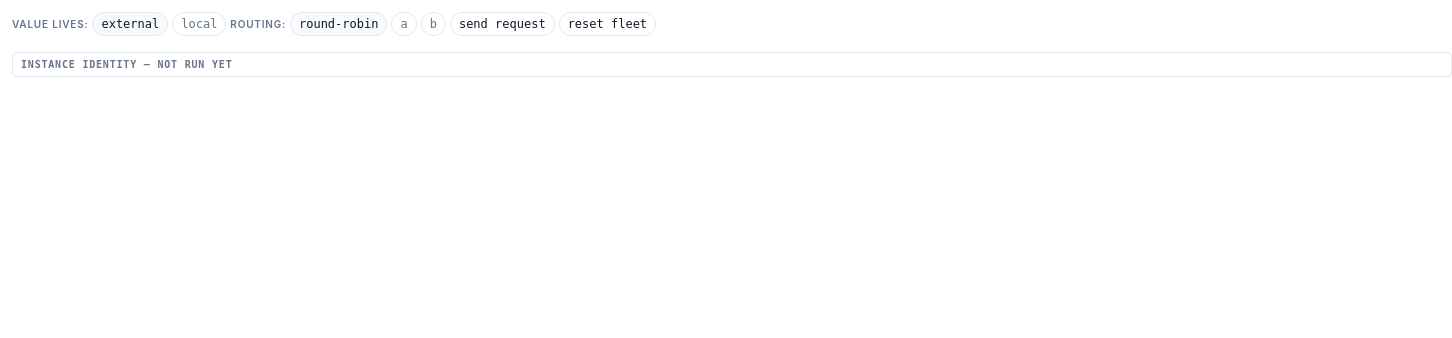
it: StatelessDemo › rides the selected store and routing on the request URL, local mode and all
Click the button "local" at x=199, y=24, box [172,12,226,36]
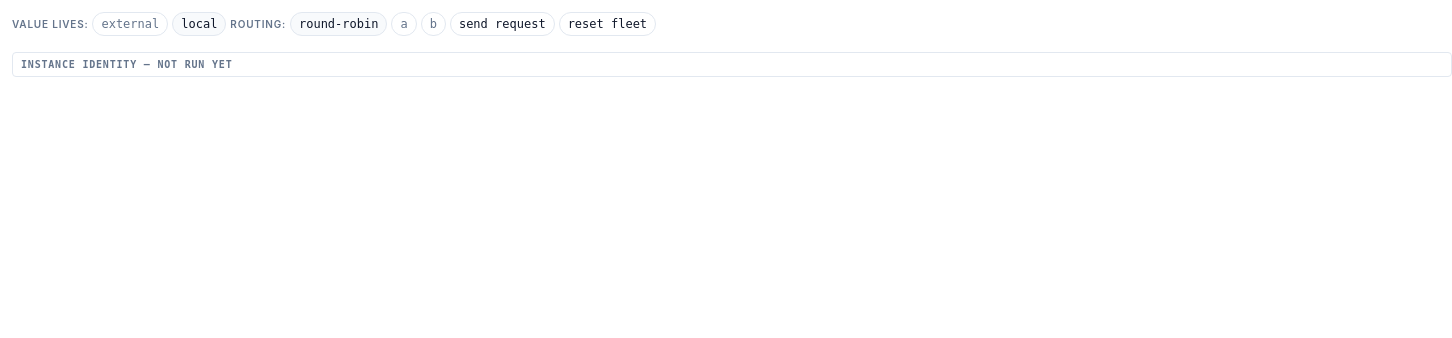
Click the button "b" at x=433, y=24, box [421,12,446,36]
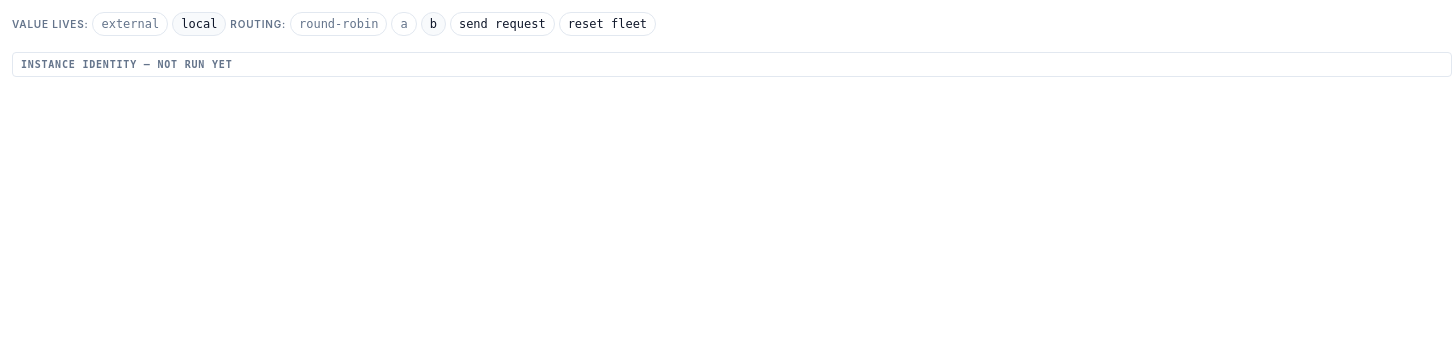
Click the button with test id "scaling-send" at x=502, y=24, box [450,12,555,36]
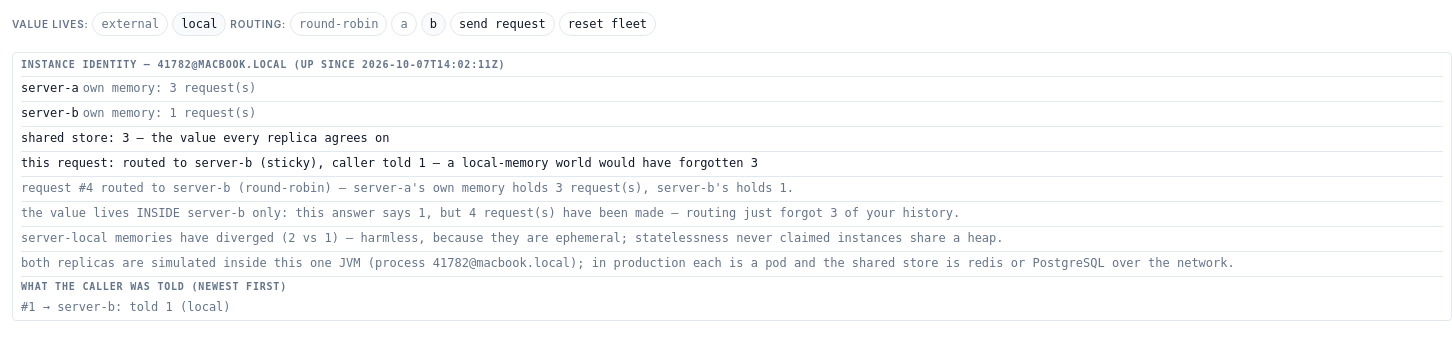
Check: the element with test id "scaling-report" shows "own memory: 3 request(s)"
Check: the text with test id "scaling-last" shows "routed to server-b (sticky)", box [21,151,1443,172]
Check: the text with test id "scaling-last" shows "a local-memory world would have forgotten 3", box [426,156,758,170]
